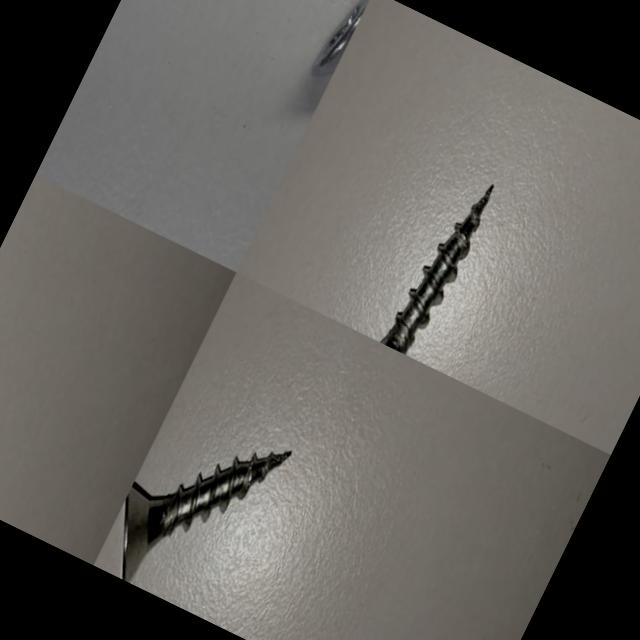Screw: (120, 452, 290, 583), (380, 185, 492, 355), (311, 0, 368, 77)
